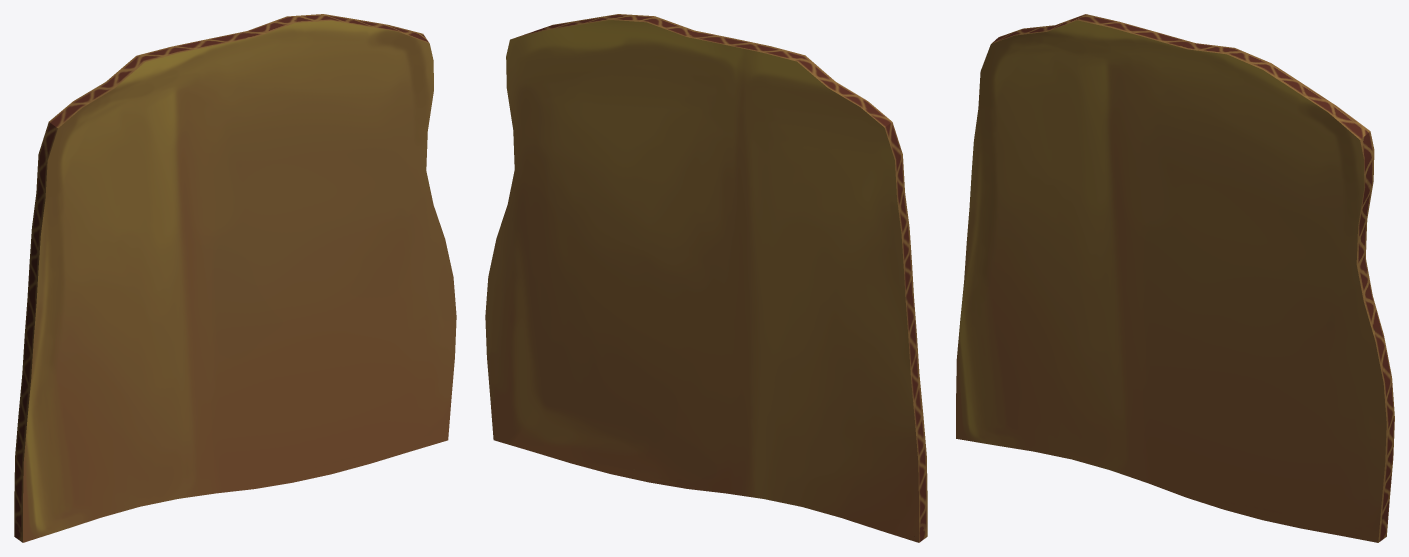
File: cartón_Pj_1.fbx
The picture shows the model from 3 angles, left to right: view 1: azimuth 30°, elevation 25°; view 2: azimuth 150°, elevation 25°; view 3: azimuth 330°, elevation 25°; orthographic projection.
Parts seen in each view (by area): view 1: Carton_Pj_1; view 2: Carton_Pj_1; view 3: Carton_Pj_1.
Part boxes in pixels (box(x1,y1,x2,y2)): Carton_Pj_1: box(14, 14, 456, 542); Carton_Pj_1: box(485, 14, 927, 542); Carton_Pj_1: box(956, 14, 1394, 542).
Size of the model in its own units: 204 by 207 by 7.
1 material, 1 textured.
